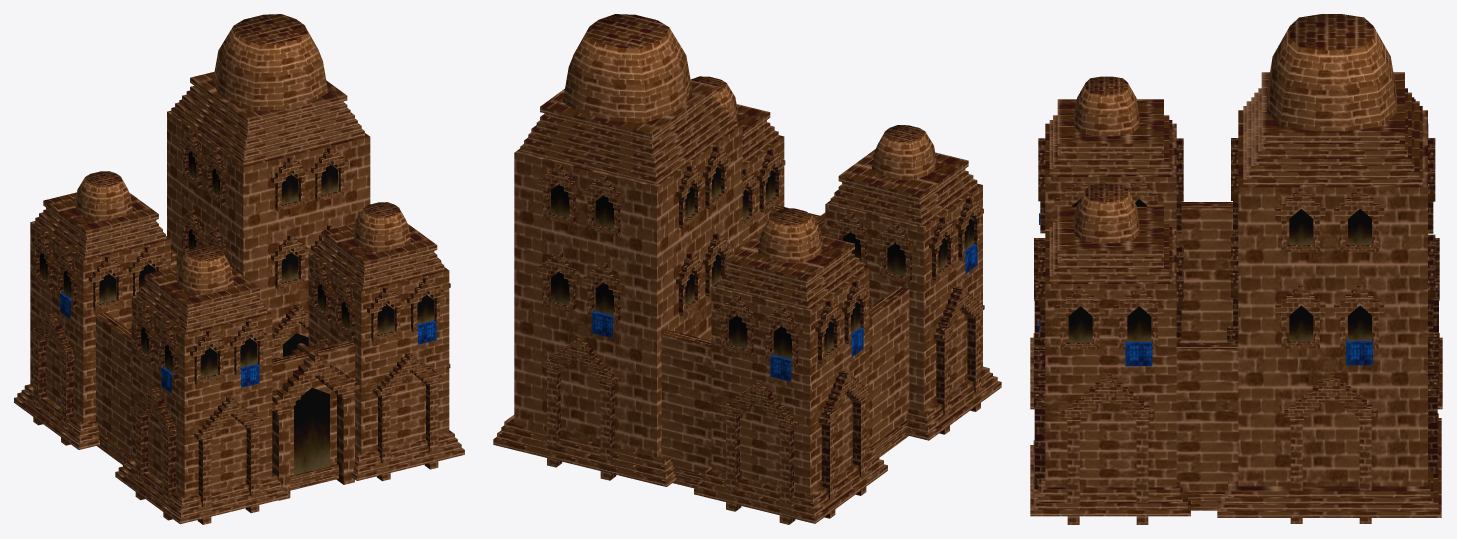
The model's file is fortress.dae.
3 renders of one model, left to right at view 1: azimuth 30°, elevation 25°; view 2: azimuth 150°, elevation 25°; view 3: azimuth 270°, elevation 25°, orthographic. The views are drawn at different scales.
Visible parts, largest first — view 1: fortress; view 2: fortress; view 3: fortress.
Boxes of the visible parts, x1,y1,x2,y2 form: fortress: (14, 14, 464, 524); fortress: (493, 14, 1001, 524); fortress: (1030, 14, 1442, 524).
Bounding box in the file's own units: 25.53 × 25.56 × 30.77.
